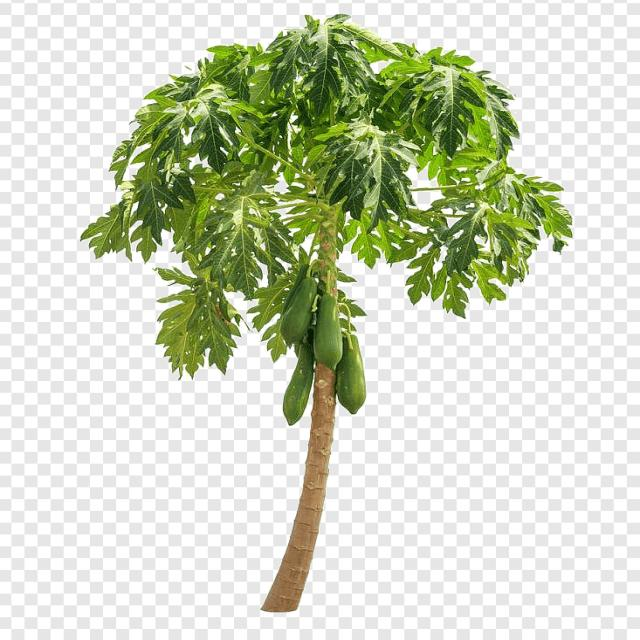Papaya-Tree: (74, 10, 577, 592)
